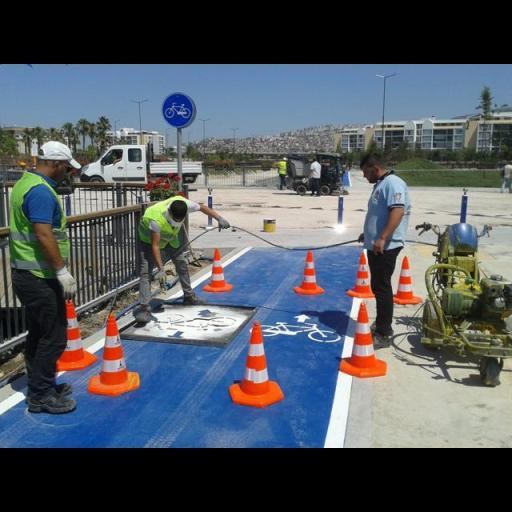Person: (8, 132, 90, 424), (353, 144, 431, 350), (124, 176, 202, 320)
boots: (23, 382, 83, 418), (132, 291, 154, 327), (368, 325, 394, 351), (178, 286, 204, 306), (53, 376, 74, 396)
gloves: (53, 259, 80, 305), (214, 210, 234, 232), (154, 266, 172, 290)
none: (358, 176, 410, 254)
vest: (7, 168, 69, 281), (137, 193, 189, 253)
